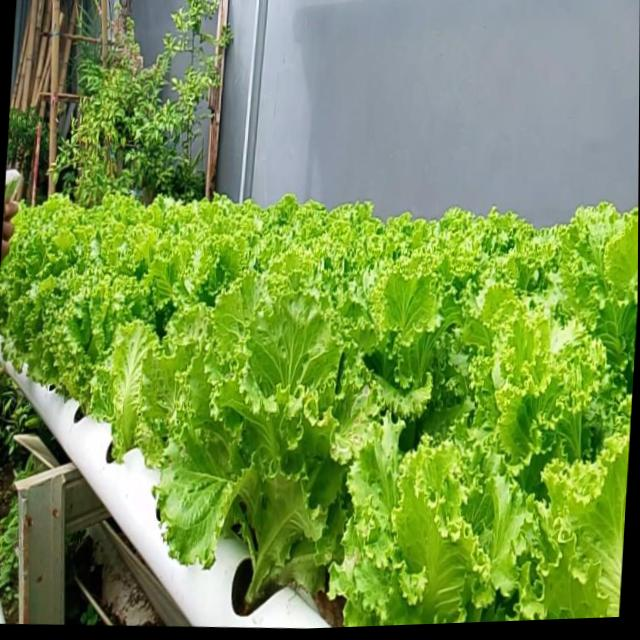Mature: (0, 194, 638, 627), (153, 290, 372, 622), (34, 272, 143, 436)
